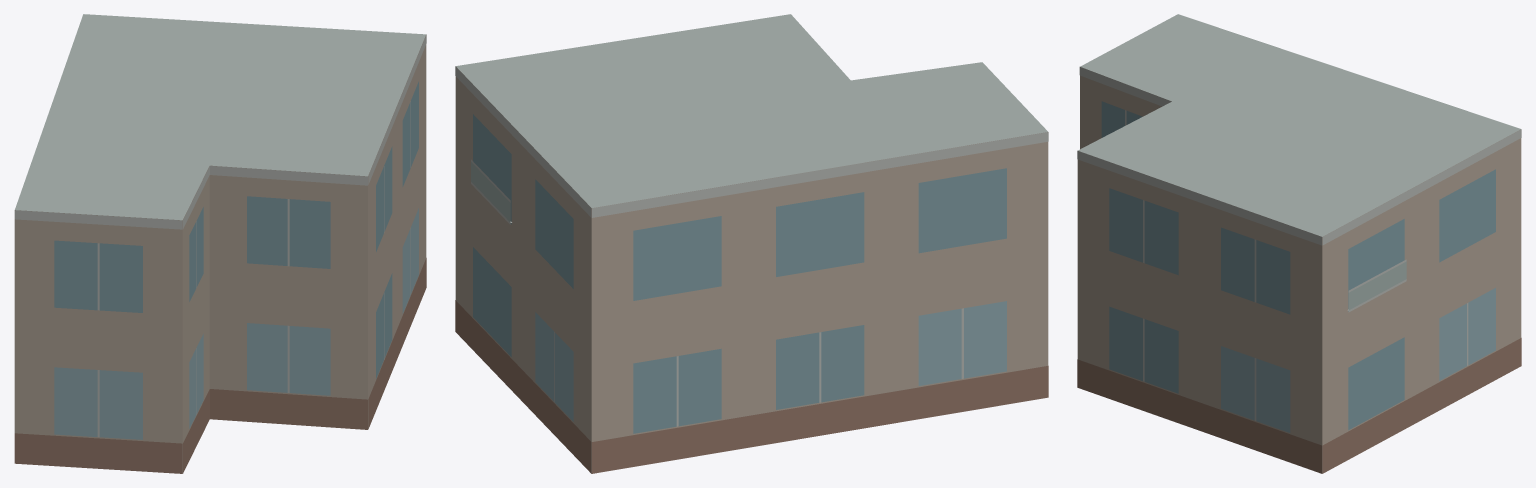
The model's file is survey-upis-32496557.glb.
3 renders of one model, left to right at view 1: azimuth 30°, elevation 25°; view 2: azimuth 150°, elevation 25°; view 3: azimuth 270°, elevation 25°, orthographic. The views are drawn at different scales.
Visible parts, largest first — view 1: survey-upis-32496557.tmp; view 2: survey-upis-32496557.tmp; view 3: survey-upis-32496557.tmp.
Boxes of the visible parts, x1,y1,x2,y2 form: survey-upis-32496557.tmp: (14, 14, 426, 473); survey-upis-32496557.tmp: (455, 14, 1048, 473); survey-upis-32496557.tmp: (1077, 14, 1521, 473).
Bounding box in the file's own units: 13.32 × 6.6 × 11.21.
